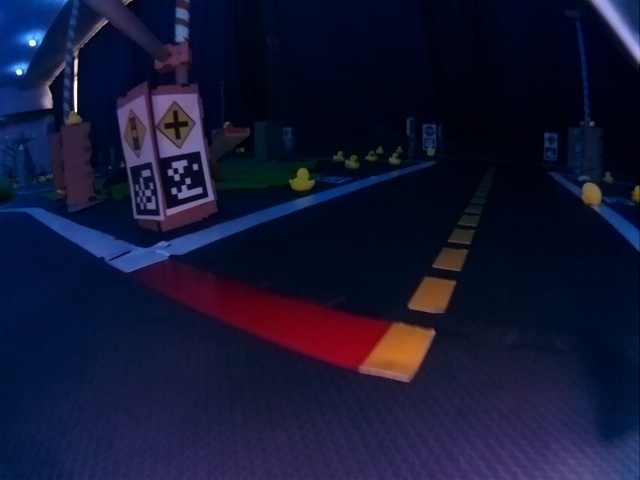Duckie: (289, 169, 313, 191), (581, 182, 600, 205), (345, 155, 360, 169), (65, 111, 81, 123), (388, 153, 400, 164), (366, 151, 377, 161), (395, 146, 404, 155), (375, 146, 384, 155), (334, 151, 342, 161)
Intersection sign: (157, 98, 199, 151)
QR code: (161, 151, 209, 206), (128, 162, 161, 219), (423, 137, 436, 150), (544, 147, 557, 160)
Signal sign: (121, 105, 151, 159)
